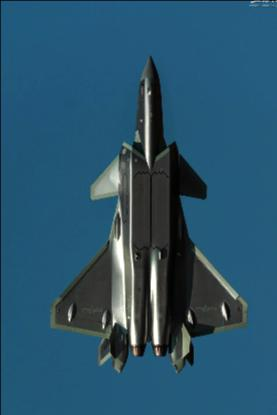F4: (49, 53, 246, 374)
